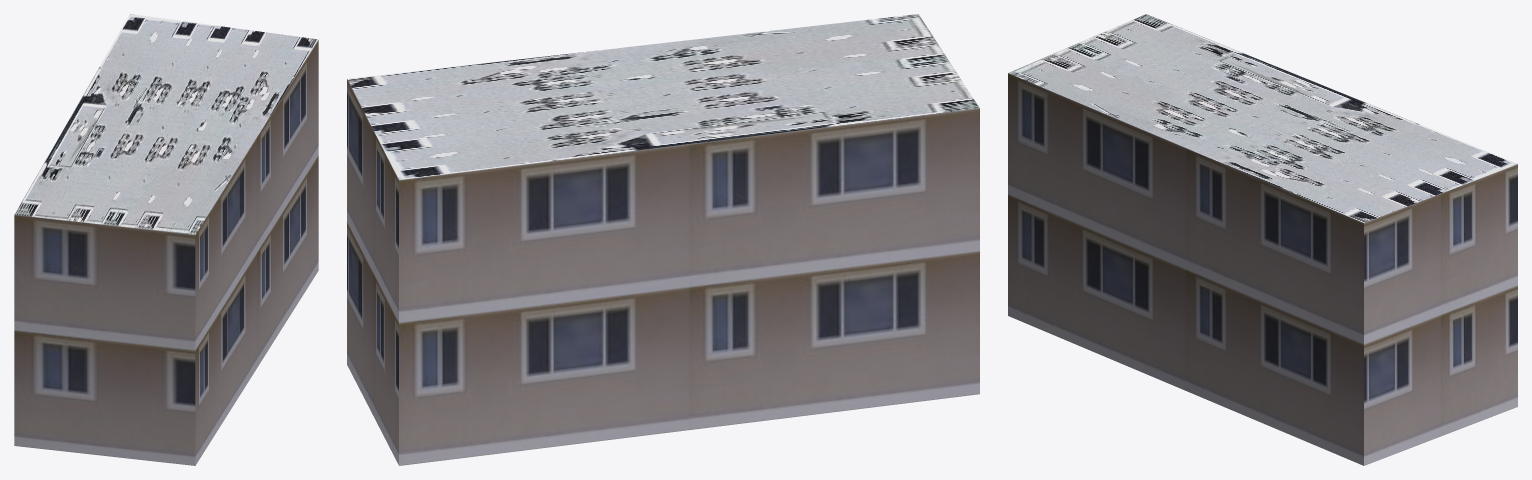
Rendered from ResTex__1809.fbx.
3 renders of one model, left to right at view 1: azimuth 30°, elevation 25°; view 2: azimuth 150°, elevation 25°; view 3: azimuth 270°, elevation 25°, orthographic. The views are drawn at different scales.
Parts seen in each view (by area): view 1: CityEngineMaterial_21_m, CityEngineMaterial_4_m; view 2: CityEngineMaterial_21_m, CityEngineMaterial_4_m; view 3: CityEngineMaterial_21_m, CityEngineMaterial_4_m.
Part boxes in pixels (box(x1,y1,x2,y2)): CityEngineMaterial_21_m: box(14, 40, 318, 465); CityEngineMaterial_4_m: box(14, 14, 318, 234); CityEngineMaterial_21_m: box(347, 79, 979, 465); CityEngineMaterial_4_m: box(347, 14, 979, 179); CityEngineMaterial_21_m: box(1008, 73, 1517, 465); CityEngineMaterial_4_m: box(1008, 14, 1517, 222).
Size of the model in its own units: 11.09 by 6 by 11.42.
Materials: 2 (2 with a texture image).
